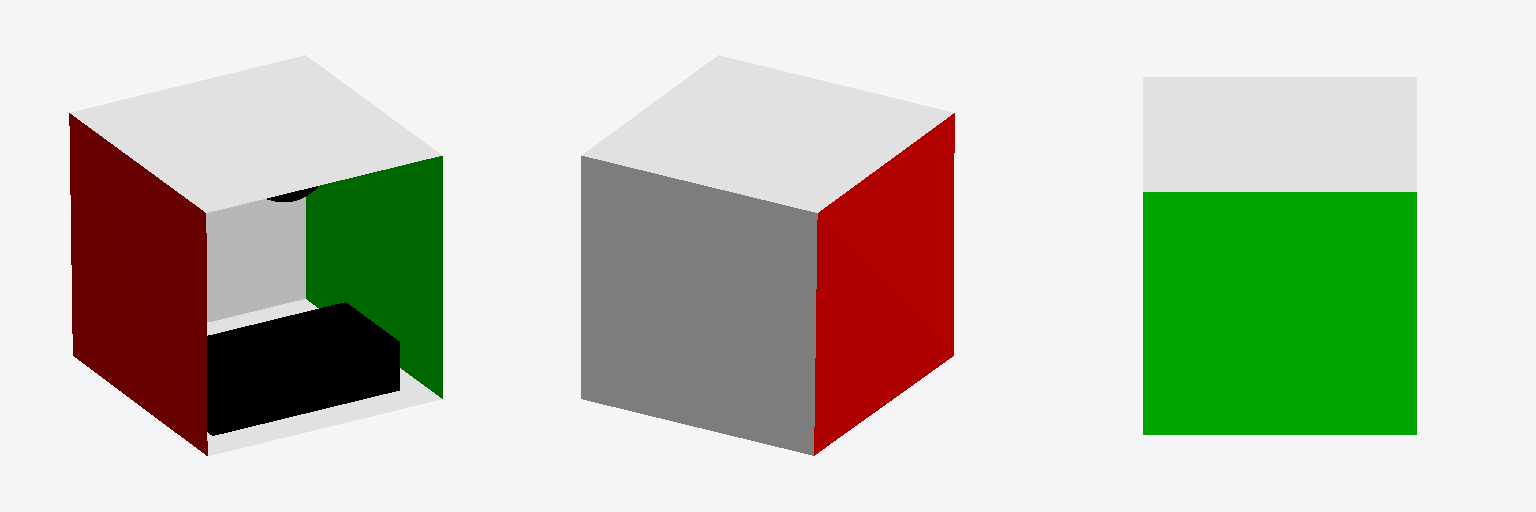
Rendered from CornellBox-Sphere-Box.obj.
3 renders of one model, left to right at view 1: azimuth 30°, elevation 25°; view 2: azimuth 150°, elevation 25°; view 3: azimuth 270°, elevation 25°, orthographic.
Parts seen in each view (by area): view 1: CornellBox-Empty-RG, Cube.001_Cube.002; view 2: CornellBox-Empty-RG; view 3: CornellBox-Empty-RG.
Boxes of the visible parts, box(x1,y1,x2,y2) form: CornellBox-Empty-RG: box(69, 55, 442, 455); Cube.001_Cube.002: box(207, 302, 399, 435); CornellBox-Empty-RG: box(581, 55, 954, 455); CornellBox-Empty-RG: box(1143, 77, 1416, 434).
Bounding box in the file's own units: 2.02 × 1.99 × 2.03.